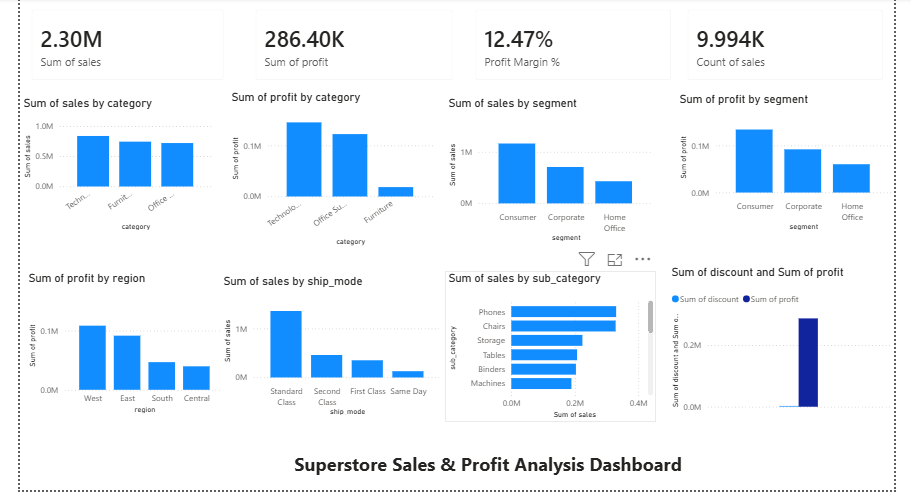

This screenshot's page, from the dashboard's own definition file:
{"tool":"powerbi","page":{"name":"Page 1","canvas":[1280,720],"ordinal":0},"visuals":[{"type":"cardVisual","fields":{"Data":["public superstore.Profit Margin %"]},"box":[650,0,320,137.1],"z":0},{"type":"cardVisual","fields":{"Data":["CountNonNull(public superstore.sales)"]},"box":[960,0,320,137.1],"z":1},{"type":"cardVisual","fields":{"Data":["Sum(public superstore.profit)"]},"box":[327.1,0,322.9,137.1],"z":2},{"type":"cardVisual","fields":{"Data":["Sum(public superstore.sales)"]},"box":[0,0,315.7,137.1],"z":3},{"type":"clusteredColumnChart","fields":{"Category":["public superstore.category"],"Y":["Sum(public superstore.sales)"]},"box":[0,142.9,285.7,201.4],"z":4},{"type":"clusteredColumnChart","fields":{"Category":["public superstore.category"],"Y":["Sum(public superstore.profit)"]},"box":[304.3,134.3,305.7,232.9],"z":5},{"type":"clusteredColumnChart","fields":{"Category":["public superstore.segment"],"Y":["Sum(public superstore.sales)"]},"box":[621.4,142.9,310,217.1],"z":6},{"type":"clusteredColumnChart","fields":{"Category":["public superstore.region"],"Y":["Sum(public superstore.profit)"]},"box":[7.1,400,297.1,212.9],"z":7},{"type":"clusteredColumnChart","fields":{"Category":["public superstore.segment"],"Y":["Sum(public superstore.profit)"]},"box":[960,137.1,320,207.1],"z":8},{"type":"clusteredColumnChart","fields":{"Category":["public superstore.ship_mode"],"Y":["Sum(public superstore.sales)"]},"box":[292.9,404.3,328.6,211.4],"z":9},{"type":"clusteredBarChart","fields":{"Category":["public superstore.sub_category"],"Y":["Sum(public superstore.sales)"]},"box":[621.4,400,310,220],"z":10},{"type":"clusteredColumnChart","fields":{"Y":["Sum(public superstore.discount)","Sum(public superstore.profit)"]},"box":[948.6,391.4,331.4,221.4],"z":11},{"type":"textbox","box":[91.4,658.6,1188.6,61.4],"z":12}]}

Visuals, with their boxes on the page's 1280x720 design canvas (x1, y1, x2, y2). These are canvas units, not pixel positions in the 911x496 screenshot, which may show the page scaled, cropped or inside an application window:
cardVisual - public superstore.Profit Margin %: {"left": 650, "top": 0, "right": 970, "bottom": 137}
cardVisual - CountNonNull(public superstore.sales): {"left": 960, "top": 0, "right": 1280, "bottom": 137}
cardVisual - Sum(public superstore.profit): {"left": 327, "top": 0, "right": 650, "bottom": 137}
cardVisual - Sum(public superstore.sales): {"left": 0, "top": 0, "right": 316, "bottom": 137}
clusteredColumnChart - public superstore.category x Sum(public superstore.sales): {"left": 0, "top": 143, "right": 286, "bottom": 344}
clusteredColumnChart - public superstore.category x Sum(public superstore.profit): {"left": 304, "top": 134, "right": 610, "bottom": 367}
clusteredColumnChart - public superstore.segment x Sum(public superstore.sales): {"left": 621, "top": 143, "right": 931, "bottom": 360}
clusteredColumnChart - public superstore.region x Sum(public superstore.profit): {"left": 7, "top": 400, "right": 304, "bottom": 613}
clusteredColumnChart - public superstore.segment x Sum(public superstore.profit): {"left": 960, "top": 137, "right": 1280, "bottom": 344}
clusteredColumnChart - public superstore.ship_mode x Sum(public superstore.sales): {"left": 293, "top": 404, "right": 622, "bottom": 616}
clusteredBarChart - public superstore.sub_category x Sum(public superstore.sales): {"left": 621, "top": 400, "right": 931, "bottom": 620}
clusteredColumnChart - Sum(public superstore.discount) x Sum(public superstore.profit): {"left": 949, "top": 391, "right": 1280, "bottom": 613}
textbox: {"left": 91, "top": 659, "right": 1280, "bottom": 720}
